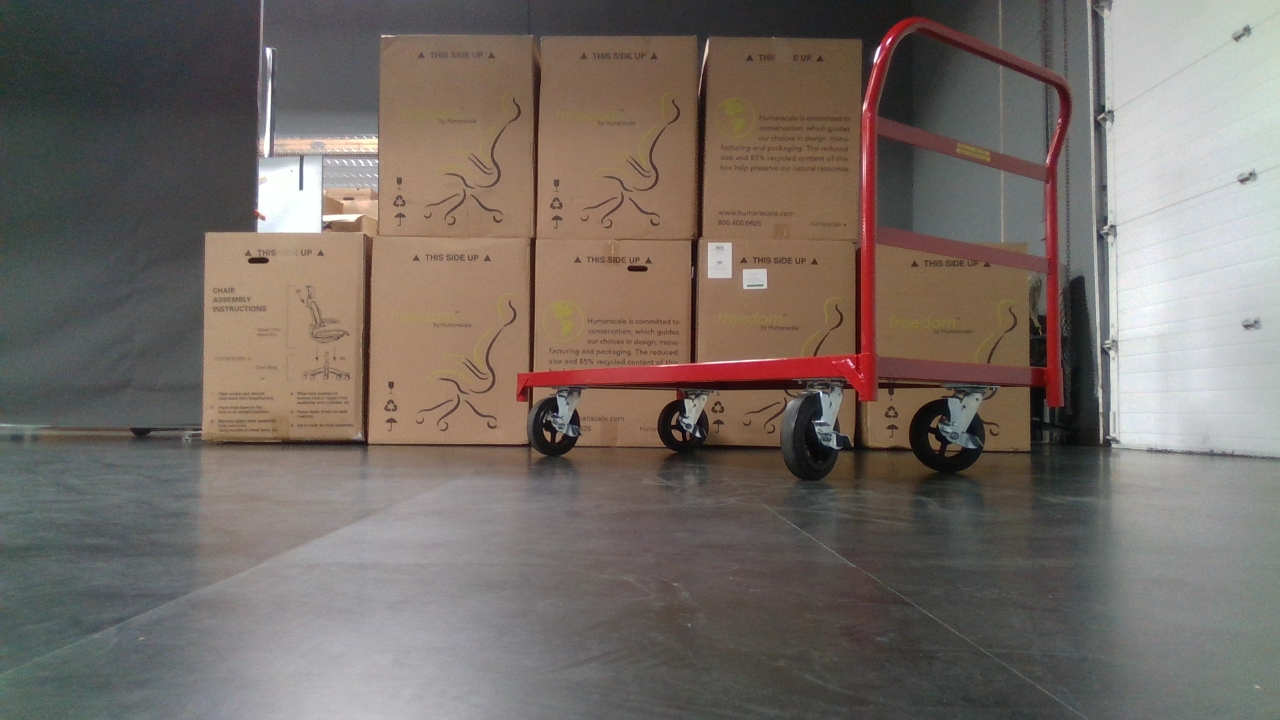Dolly: (515, 15, 1075, 476)
Wheel: (909, 381, 988, 473), (781, 386, 851, 475), (526, 388, 582, 453), (657, 389, 713, 452)
